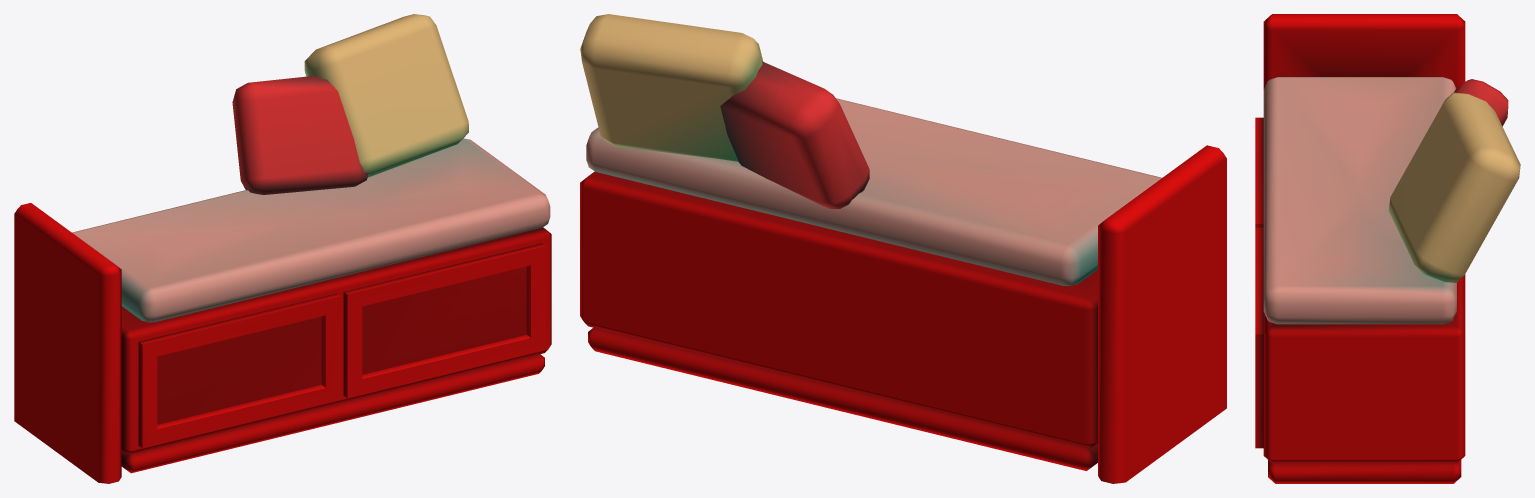
Rendered from CI_Bedroom_WindowSeat.glb.
3 views of the same model, side by side, from view 1: azimuth 30°, elevation 25°; view 2: azimuth 150°, elevation 25°; view 3: azimuth 270°, elevation 25° (orthographic). The views are drawn at different scales.
Parts seen in each view (by area): view 1: CI_Bedroom_WindowSeat; view 2: CI_Bedroom_WindowSeat; view 3: CI_Bedroom_WindowSeat.
Boxes of the visible parts, x1,y1,x2,y2 form: CI_Bedroom_WindowSeat: (14,14,551,483); CI_Bedroom_WindowSeat: (580,14,1226,483); CI_Bedroom_WindowSeat: (1255,14,1520,483).
Size of the model in its own units: 1.37 by 0.8509 by 0.6316.
